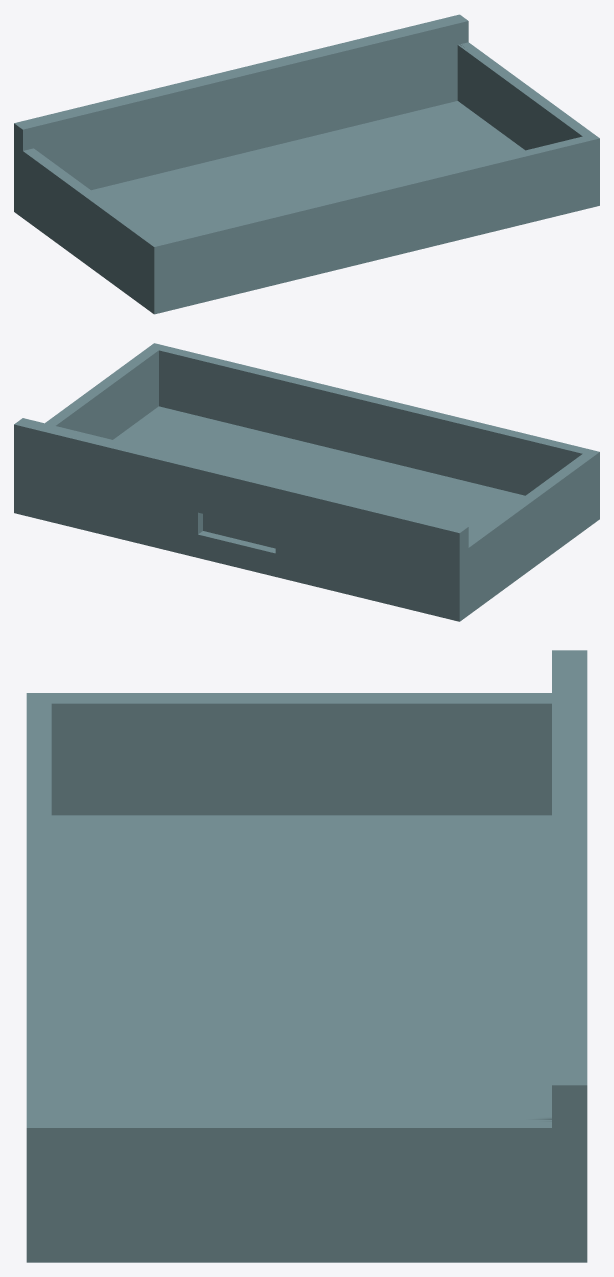
File: Bed_Part.000.fbx
3 renders of one model, top to bottom at view 1: azimuth 30°, elevation 25°; view 2: azimuth 150°, elevation 25°; view 3: azimuth 270°, elevation 25°, orthographic. The views are drawn at different scales.
Parts seen in each view (by area): view 1: Bed_Part.000; view 2: Bed_Part.000; view 3: Bed_Part.000.
Part boxes in pixels (left/top/right/bottom): Bed_Part.000: left=14, top=14, right=599, bottom=314; Bed_Part.000: left=14, top=343, right=599, bottom=621; Bed_Part.000: left=26, top=650, right=587, bottom=1262.
Size of the model in its own units: 125 by 23.67 by 67.88.
